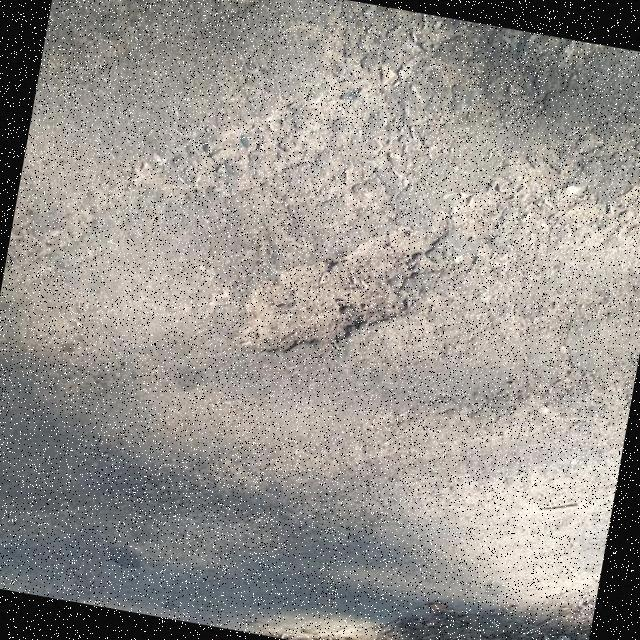Pothole: (232, 229, 450, 352)
